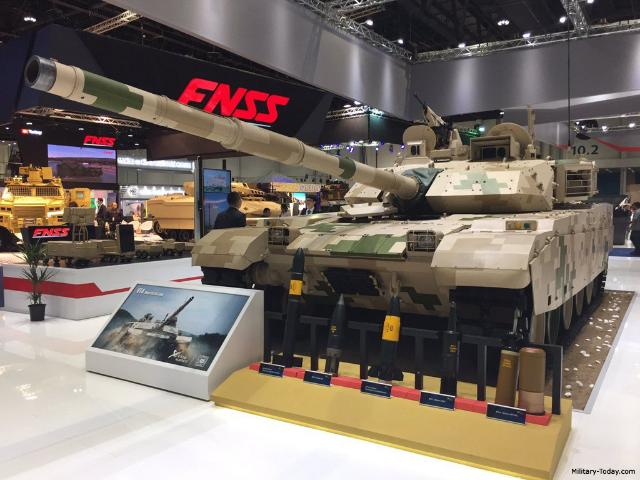other: (214, 187, 246, 227)
tank: (215, 158, 607, 320)
